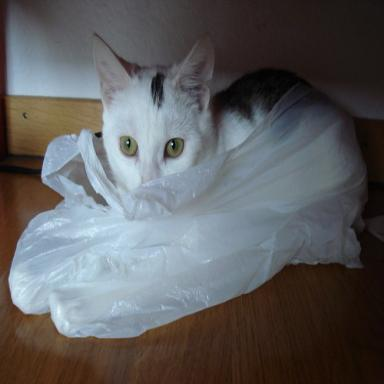plasticbag: (5, 87, 381, 338)
